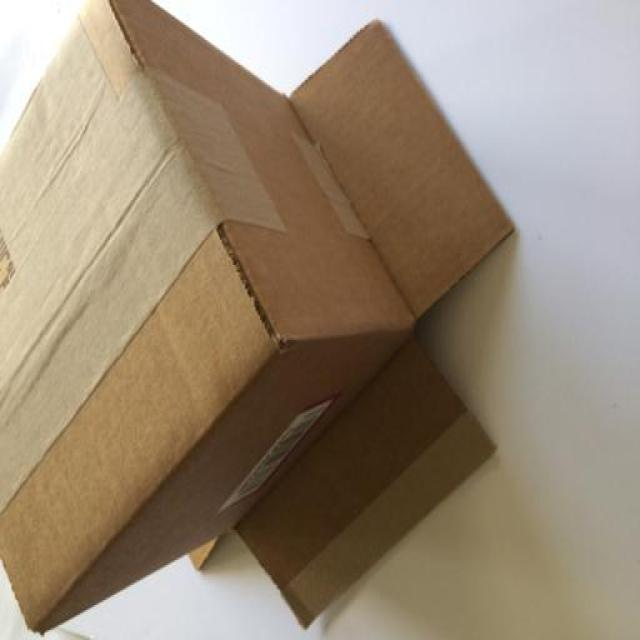cardboard: (0, 0, 517, 630)
